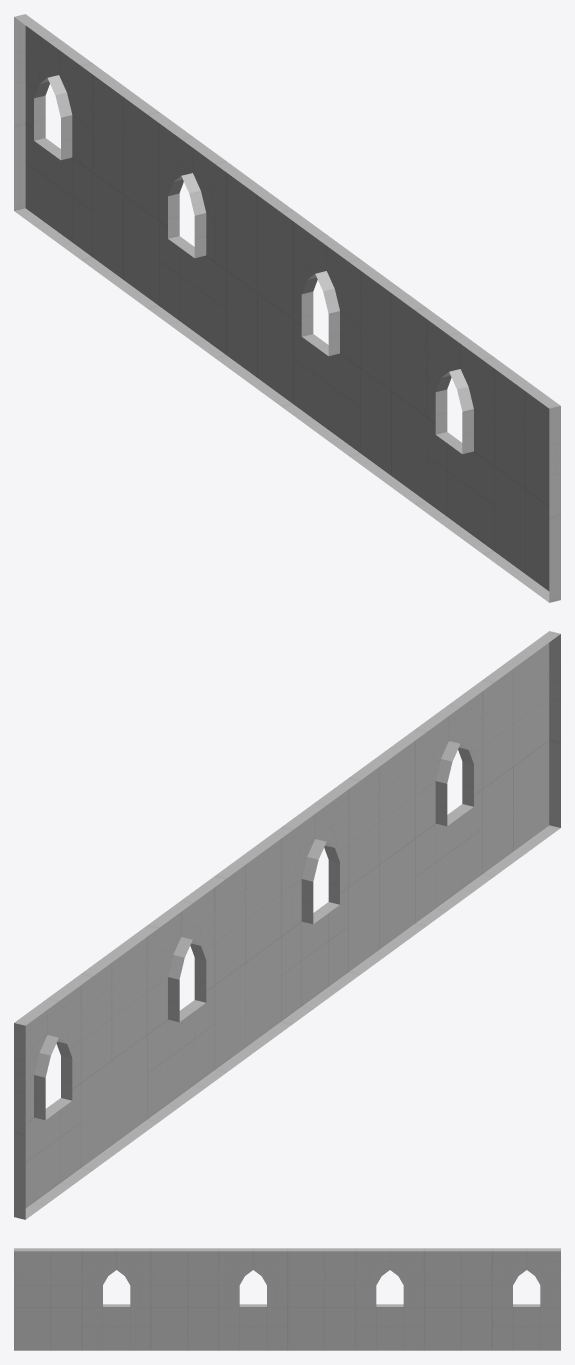
File: Wall.fbx
3 renders of one model, top to bottom at view 1: azimuth 30°, elevation 25°; view 2: azimuth 150°, elevation 25°; view 3: azimuth 270°, elevation 25°, orthographic. The views are drawn at different scales.
Visible parts, largest first — view 1: Wall; view 2: Wall; view 3: Wall.
Boxes of the visible parts, <box> form: Wall: <box>14,14,560,602</box>; Wall: <box>14,631,560,1219</box>; Wall: <box>14,1248,560,1350</box>.
Size of the model in its own units: 50 by 800 by 4000.
